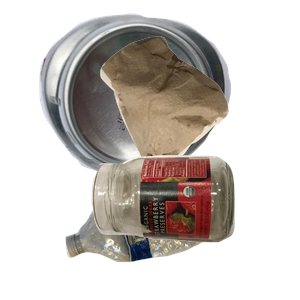glass: (89, 153, 300, 300)
metal: (37, 11, 261, 180)
plastic: (63, 170, 278, 300)
trash: (98, 34, 300, 211)
